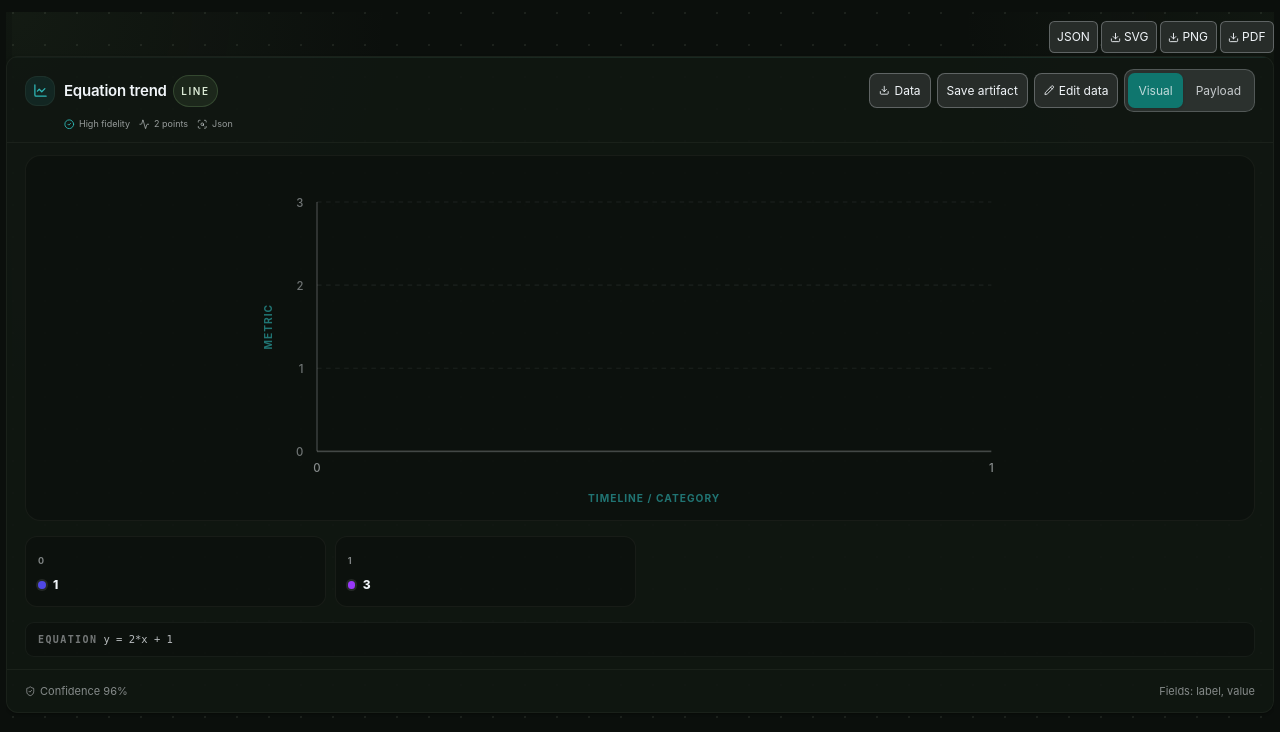
Test: DeepSpace markdown streaming › returns to the chart when the equation is cleared
Click the button "Payload" at x=1218, y=90, box [1186,73,1251,108]
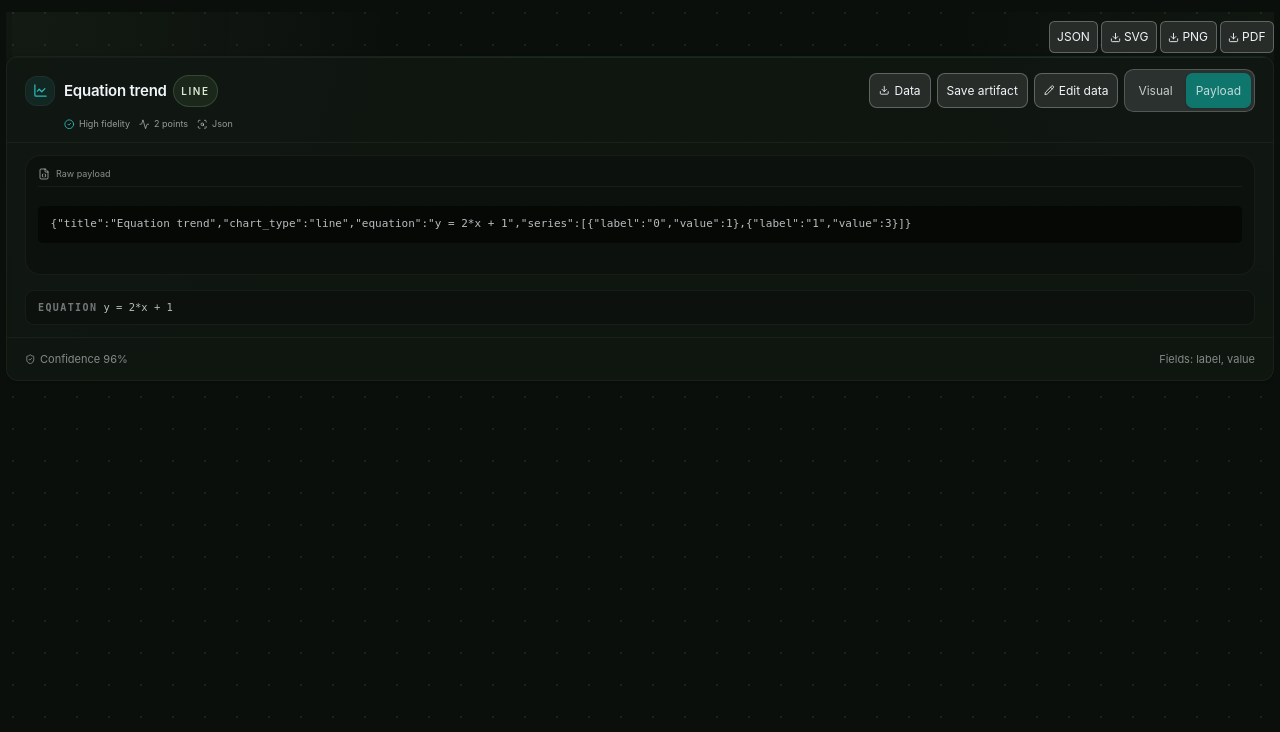
Click the button "Edit data" at x=1076, y=90, box [1034,73,1118,108]
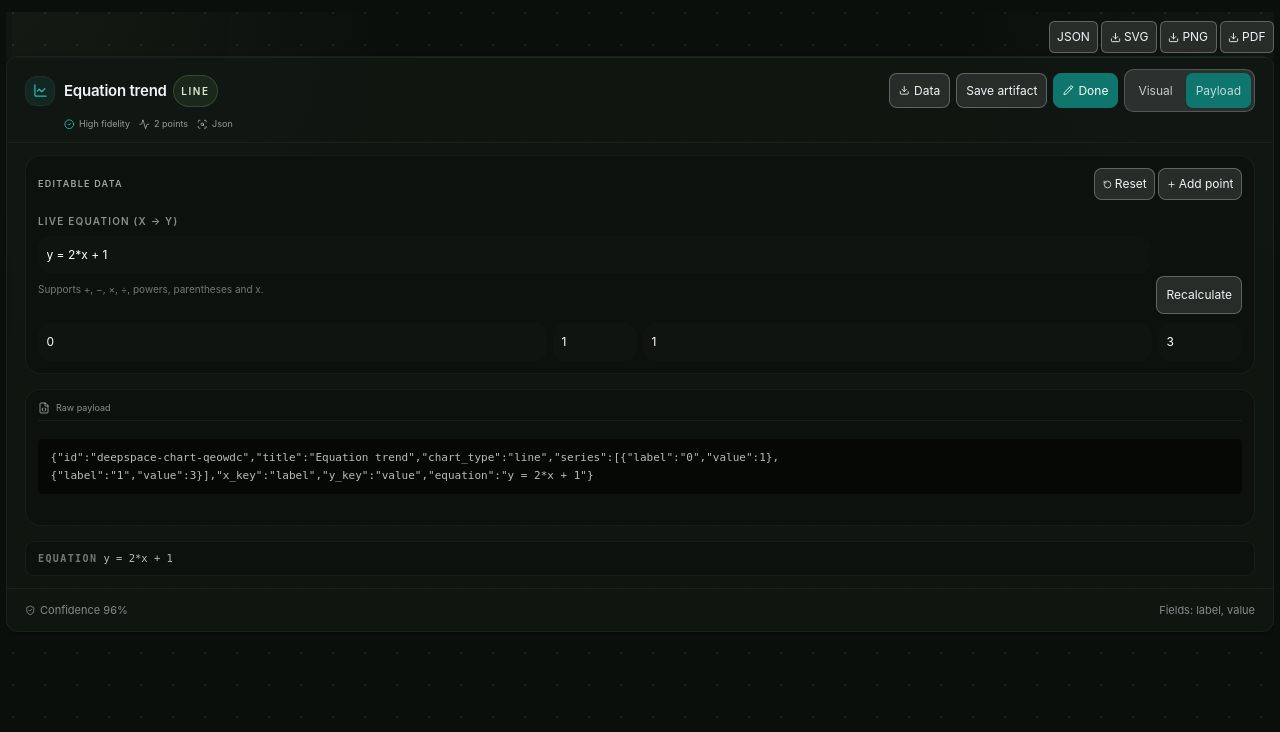
Clear the field labelled "Live equation (x → y)" at x=594, y=255, box [38,236,1150,274]
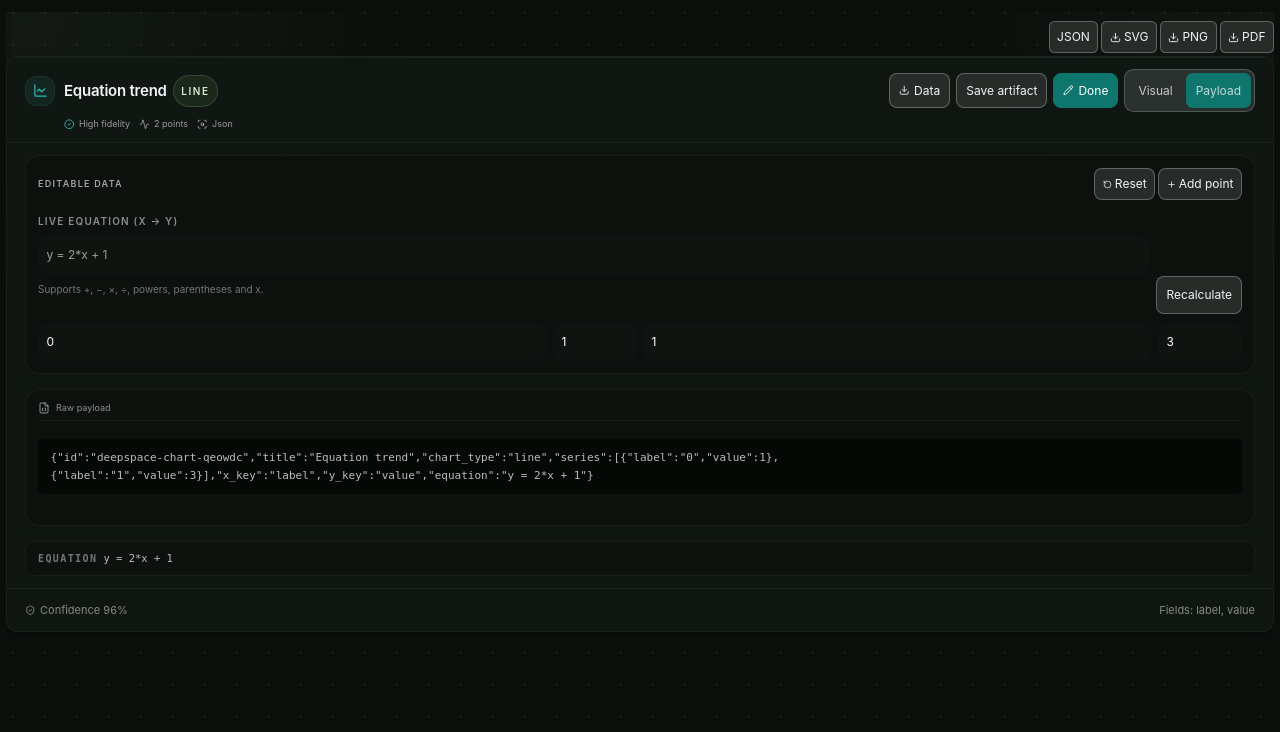
Click the button "Recalculate" at x=1199, y=294, box [1156,276,1242,314]
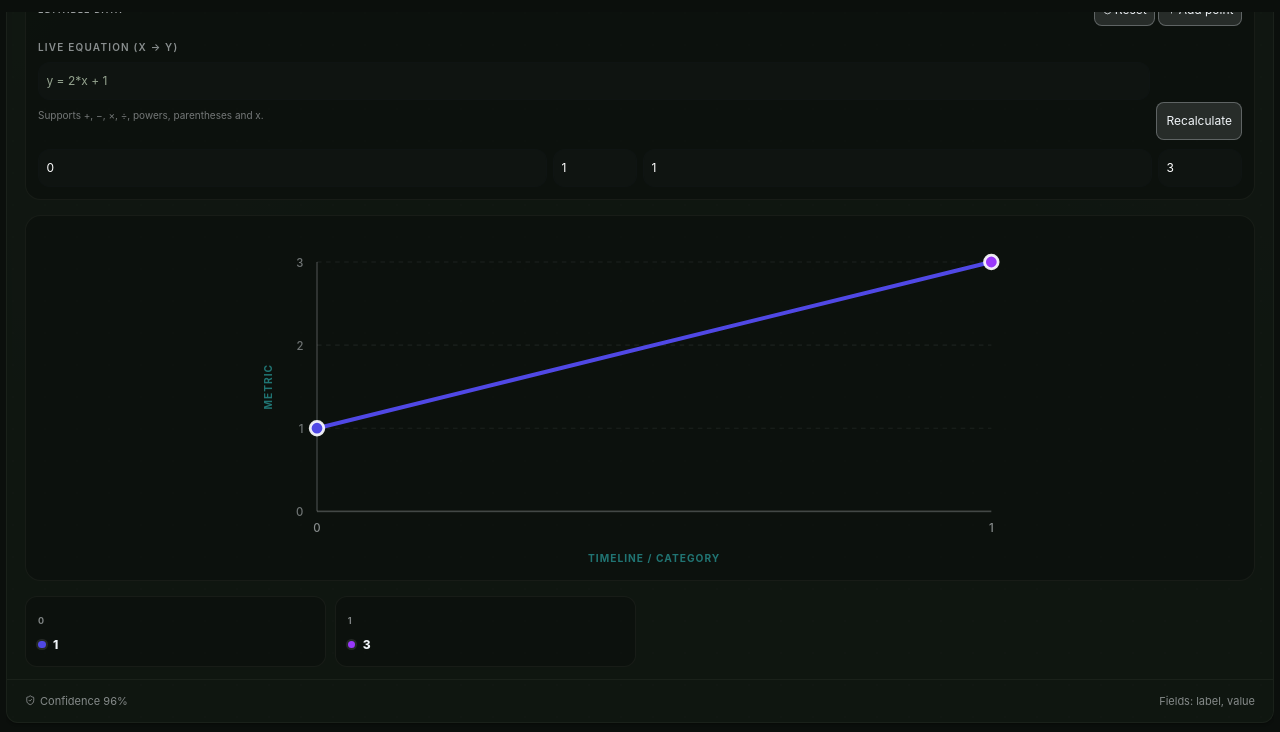
Now the picture named "Equation trend" is shown, box [38,228,1242,568]
Now the text "Raw payload" is gone
